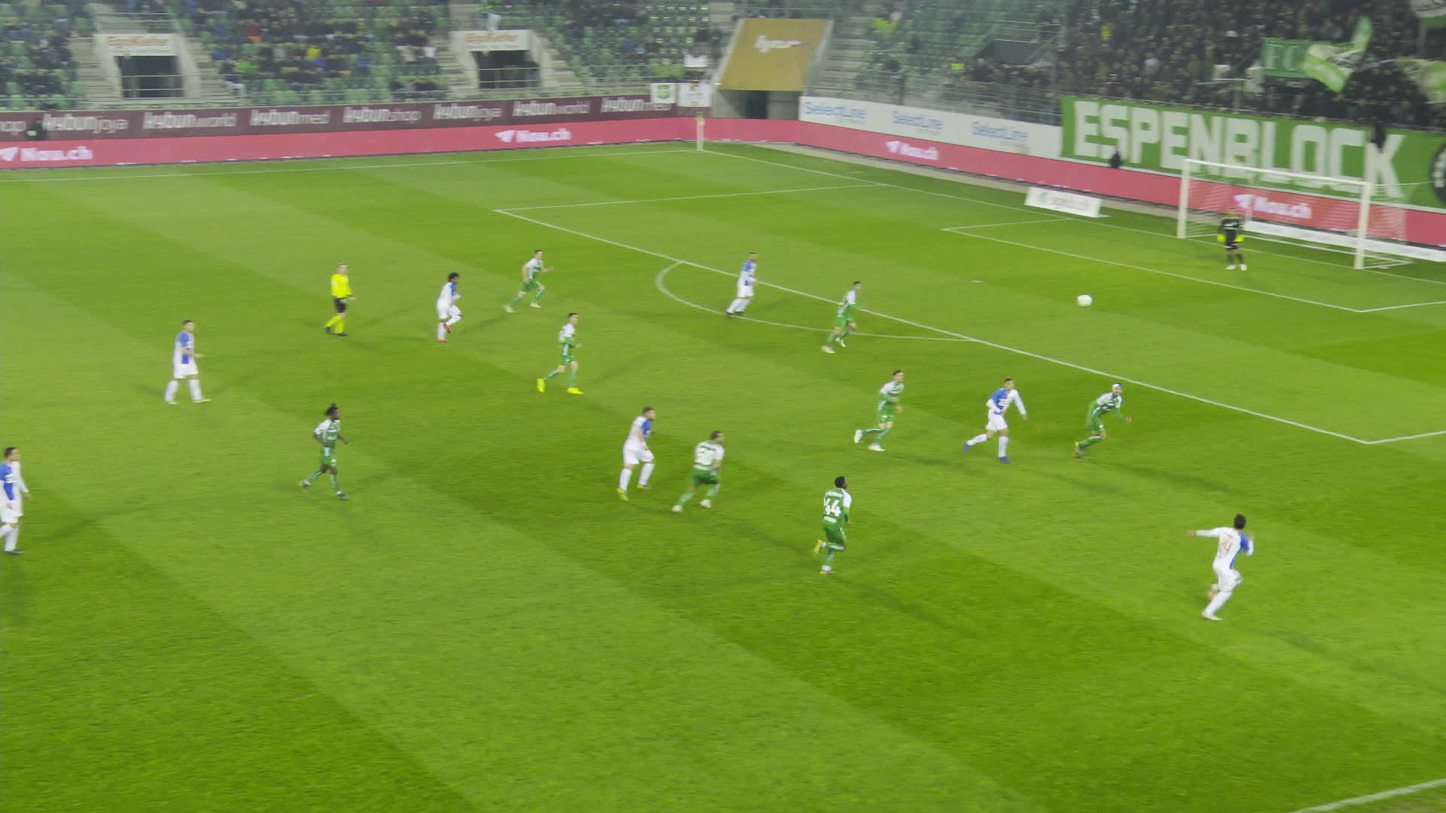ball: (1072, 294, 1088, 306)
player: (1173, 510, 1256, 620), (800, 473, 859, 571), (1061, 382, 1133, 460), (676, 426, 731, 513), (968, 378, 1026, 460), (856, 368, 910, 449), (301, 405, 344, 499), (537, 312, 584, 397), (616, 408, 657, 499), (0, 445, 34, 554), (167, 319, 209, 405), (822, 280, 864, 352), (427, 269, 466, 340), (507, 246, 549, 311), (727, 251, 762, 319), (1214, 206, 1248, 272)
referee: (319, 263, 358, 336)
